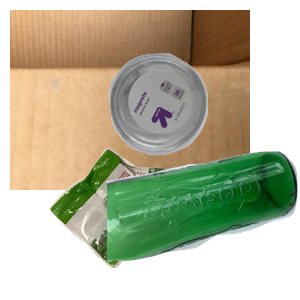cardboard: (10, 10, 250, 190)
glass: (107, 149, 300, 300)
plastic: (107, 51, 300, 199)
trash: (47, 146, 220, 300)
